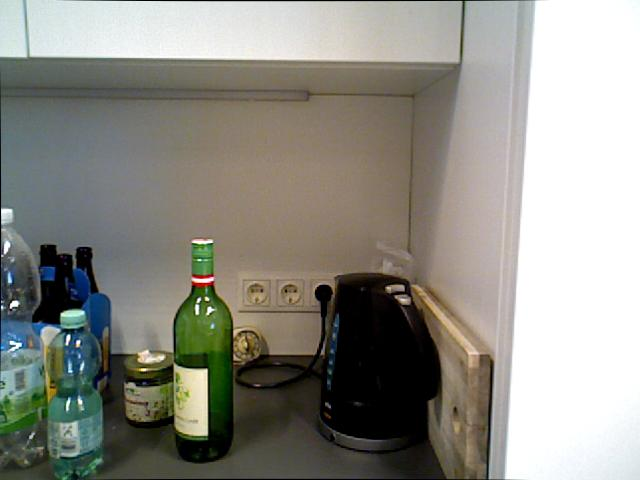bench: (172, 237, 234, 463), (0, 207, 48, 469), (46, 305, 104, 479), (50, 250, 75, 324), (72, 241, 101, 293), (36, 237, 58, 266)
giraffe: (233, 327, 264, 363)
hot dog: (491, 4, 640, 480)
